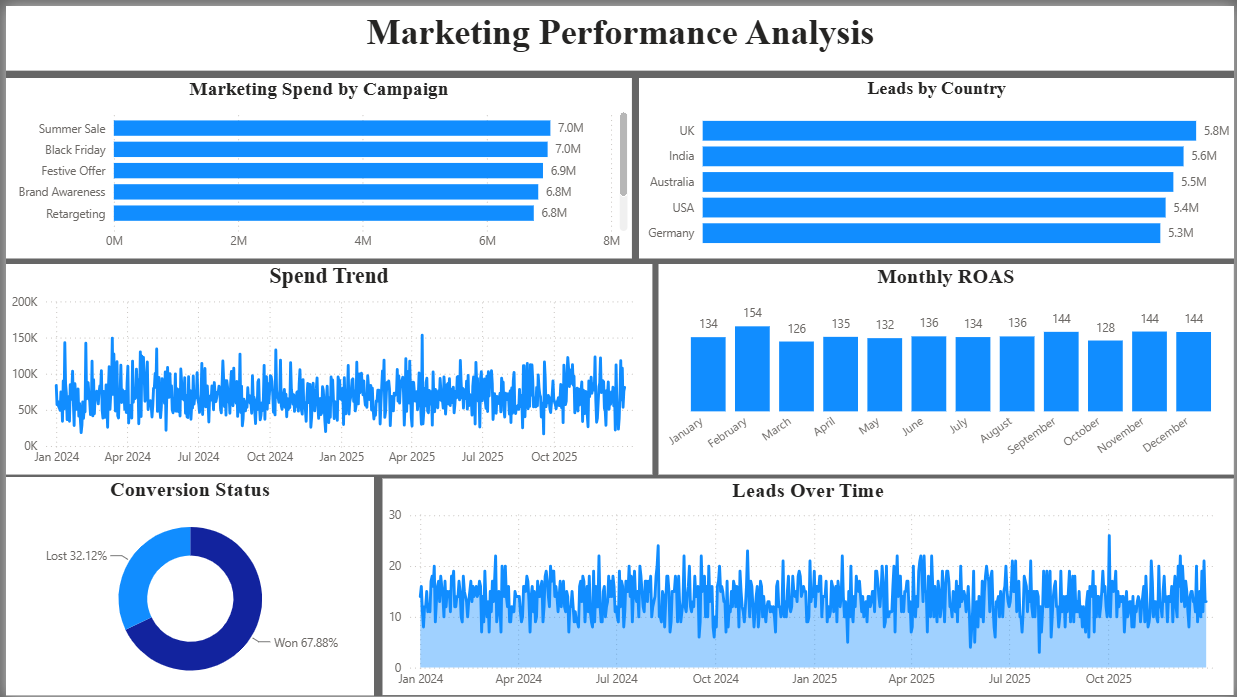

This screenshot's page, from the dashboard's own definition file:
{"tool":"powerbi","page":{"name":"Marketing Performance Analysis","canvas":[1280,720],"ordinal":1},"visuals":[{"type":"textbox","box":[0,0,1280,67.5],"z":0},{"type":"lineChart","title":"Spend Trend","fields":{"Y":["Sum(Ad_Spend.ad_spend)"],"Category":["Ad_Spend.date"]},"box":[0,269.2,673.1,219.2],"z":1000},{"type":"clusteredColumnChart","title":"Monthly ROAS","fields":{"Category":["Ad_Spend.date.Variation.Date Hierarchy.Month"],"Y":["Fact_Marketing.ROAS"]},"box":[680,269.2,599.2,219.2],"z":2000},{"type":"donutChart","title":"Conversion Status","fields":{"Category":["crm_clean.conversion_status"],"Y":["Sum(crm_clean.user_id)"]},"box":[0,491.1,383.3,228.9],"z":3000},{"type":"areaChart","title":"Leads Over Time","fields":{"Category":["crm_clean.lead_date"],"Y":["crm_clean.Total Leads"]},"box":[392.2,492.2,886.7,226.7],"z":4000},{"type":"clusteredBarChart","title":"Marketing Spend by Campaign","fields":{"Category":["Ad_Spend.campaign"],"Y":["Sum(Ad_Spend.ad_spend)"]},"box":[0,75,652,188],"z":5000},{"type":"barChart","title":"Leads by Country","fields":{"Category":["crm_clean.country"],"Y":["Sum(crm_clean.user_id)"]},"box":[660,75,620,188],"z":6000}]}

Visuals, with their boxes in screenshot pixels (x1, y1, x2, y2), scaled from the page's 1280x720 canvas onto the 1237x697 screenshot:
textbox: {"x1": 0, "y1": 0, "x2": 1236, "y2": 65}
"Spend Trend" lineChart: {"x1": 0, "y1": 261, "x2": 650, "y2": 473}
"Monthly ROAS" clusteredColumnChart: {"x1": 657, "y1": 261, "x2": 1236, "y2": 473}
"Conversion Status" donutChart: {"x1": 0, "y1": 475, "x2": 370, "y2": 696}
"Leads Over Time" areaChart: {"x1": 379, "y1": 476, "x2": 1236, "y2": 696}
"Marketing Spend by Campaign" clusteredBarChart: {"x1": 0, "y1": 73, "x2": 630, "y2": 255}
"Leads by Country" barChart: {"x1": 638, "y1": 73, "x2": 1236, "y2": 255}
